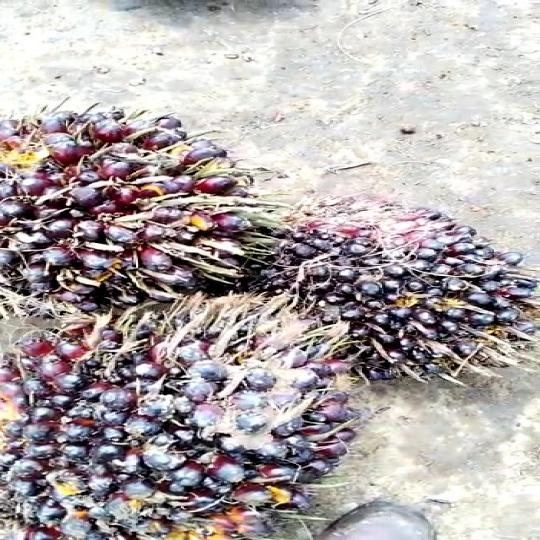kurang masak: (0, 286, 331, 539), (227, 194, 535, 378), (0, 96, 246, 308)
